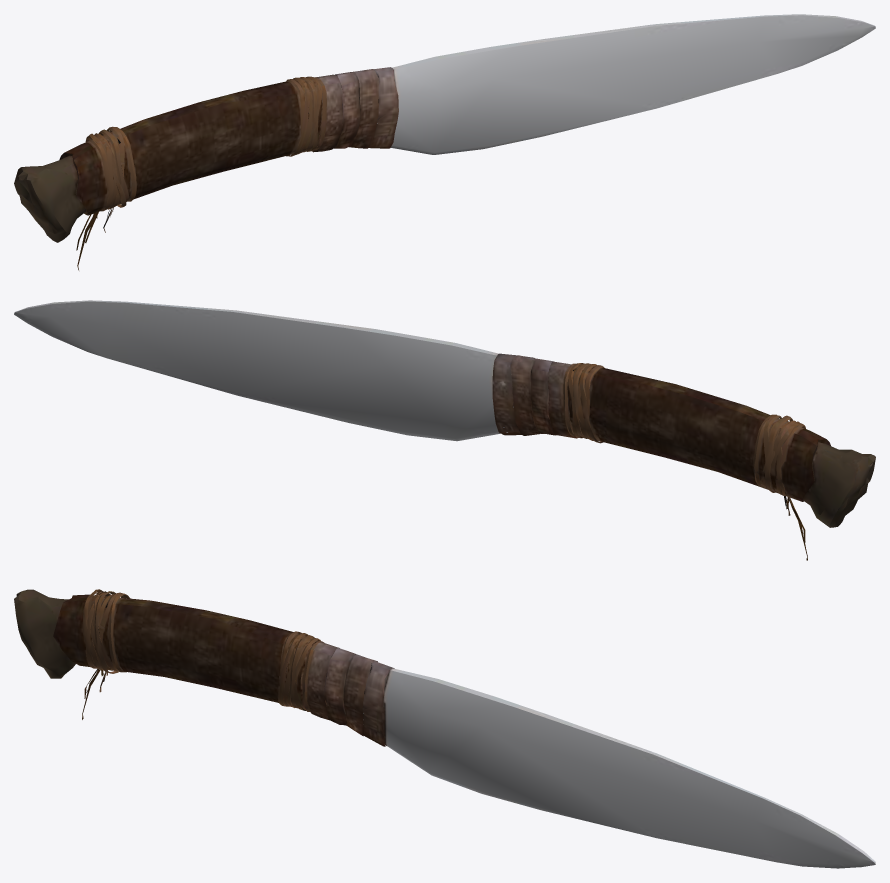
The model's file is knife.glb.
The picture shows the model from 3 angles, top to bottom: view 1: azimuth 30°, elevation 25°; view 2: azimuth 150°, elevation 25°; view 3: azimuth 330°, elevation 25°; orthographic projection.
Visible parts, largest first — view 1: knife; view 2: knife; view 3: knife.
Boxes of the visible parts, x1=… form: knife: x1=14, y1=14, x2=875, y2=270; knife: x1=14, y1=300, x2=875, y2=560; knife: x1=14, y1=589, x2=875, y2=868.
Bounding box in the file's own units: 0.32 × 0.05 × 0.0173.
1 material, 1 textured.
